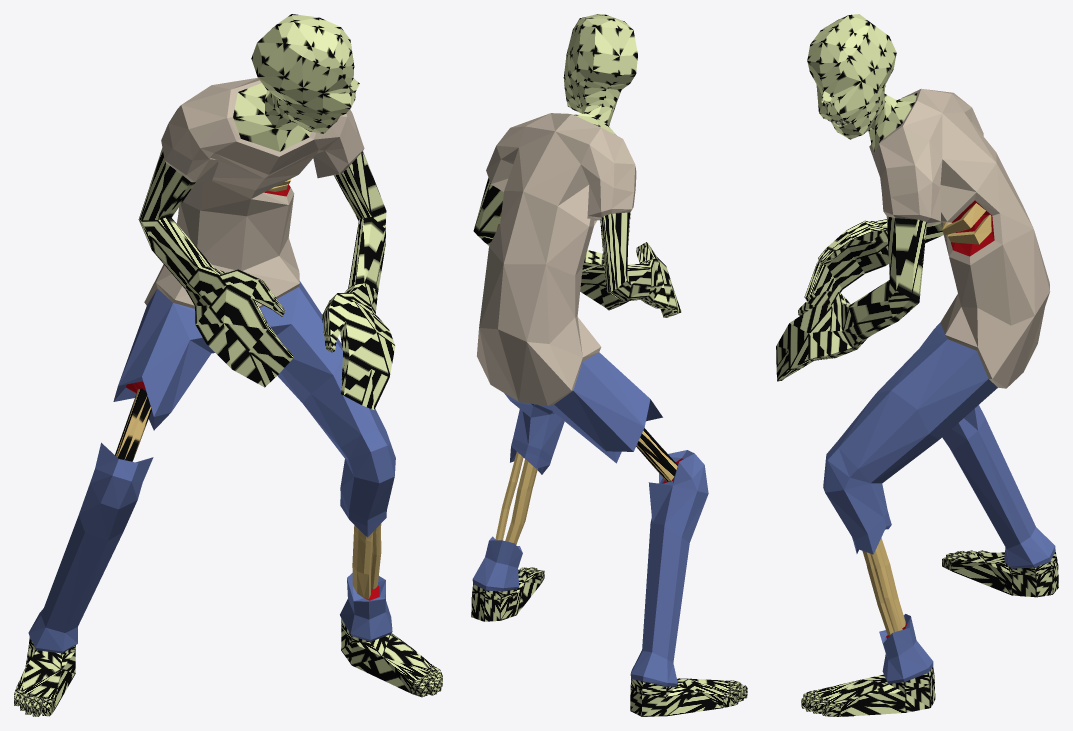
File: zombie.glb
The picture shows the model from 3 angles, left to right: view 1: azimuth 30°, elevation 25°; view 2: azimuth 150°, elevation 25°; view 3: azimuth 270°, elevation 25°; orthographic projection. The views are drawn at different scales.
Parts seen in each view (by area): view 1: Zombie_Cylinder_Zombie_CylinderMesh; view 2: Zombie_Cylinder_Zombie_CylinderMesh; view 3: Zombie_Cylinder_Zombie_CylinderMesh.
Boxes of the visible parts, x1,y1,x2,y2 form: Zombie_Cylinder_Zombie_CylinderMesh: (14,14,442,716); Zombie_Cylinder_Zombie_CylinderMesh: (471,14,747,716); Zombie_Cylinder_Zombie_CylinderMesh: (776,14,1058,716).
Size of the model in its own units: 3.74 by 7.04 by 2.82.
Materials: 1 (1 with a texture image).
